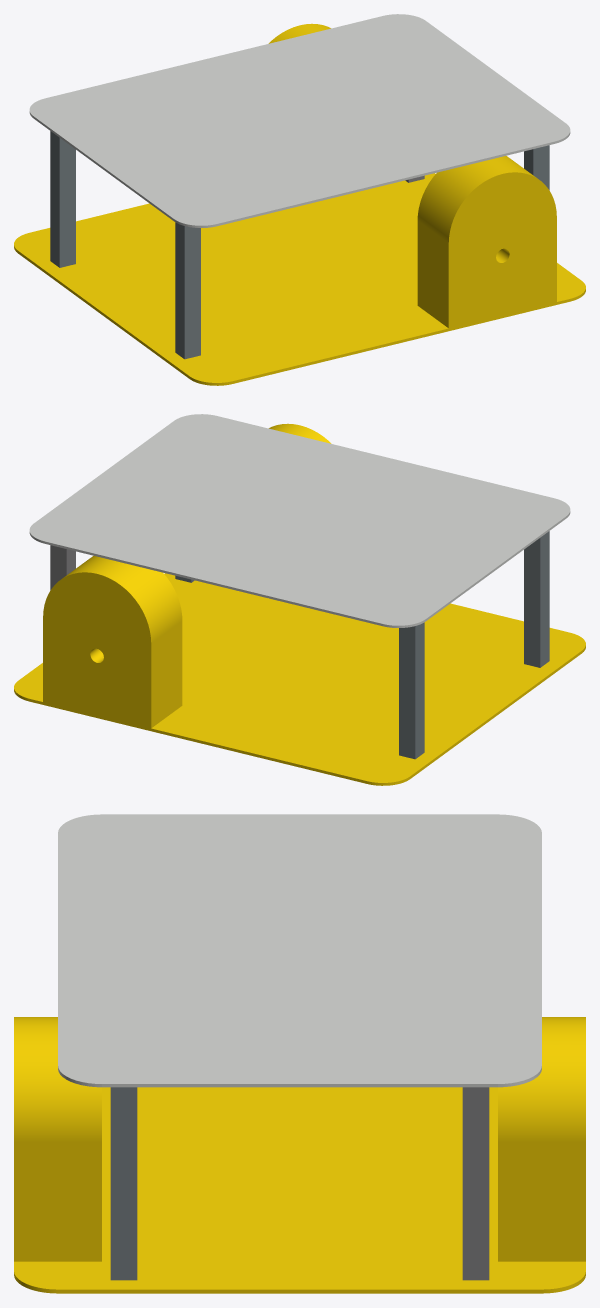
The picture shows the model from 3 angles, top to bottom: view 1: azimuth 30°, elevation 25°; view 2: azimuth 150°, elevation 25°; view 3: azimuth 270°, elevation 25°; orthographic projection. The views are drawn at different scales.
Visible parts, largest first — view 1: bottom_base, top_base, poles4, poles2, poles3; view 2: bottom_base, top_base, poles2, poles4, poles1; view 3: top_base, bottom_base, poles1, poles3.
Part boxes in pixels (bbox=[...]): bottom_base: bbox=[14, 23, 585, 385]; top_base: bbox=[29, 14, 570, 227]; poles4: bbox=[175, 222, 200, 359]; poles2: bbox=[50, 131, 75, 267]; poles3: bbox=[524, 145, 549, 190]; bottom_base: bbox=[14, 423, 585, 785]; top_base: bbox=[29, 414, 570, 627]; poles2: bbox=[399, 622, 424, 759]; poles4: bbox=[524, 531, 549, 667]; poles1: bbox=[50, 545, 75, 590]; top_base: bbox=[58, 814, 541, 1087]; bottom_base: bbox=[14, 1017, 585, 1293]; poles1: bbox=[462, 1087, 489, 1280]; poles3: bbox=[110, 1087, 137, 1280].
Size of the model in its own units: 0.145 by 0.13 by 0.0645.
